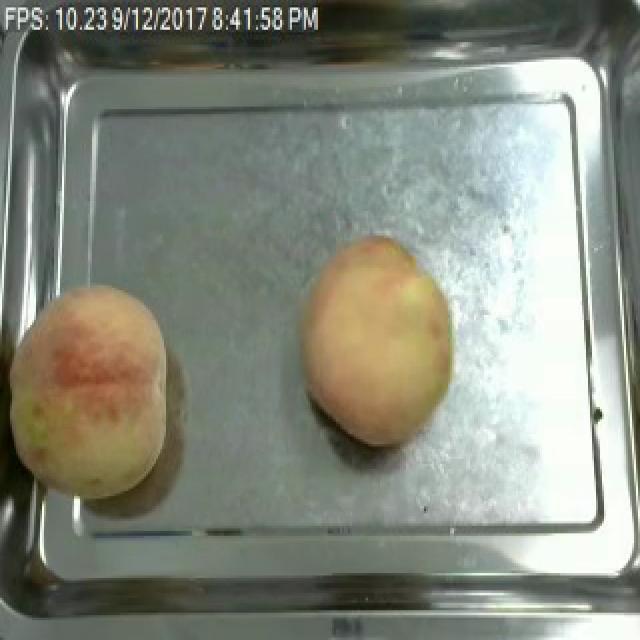Fruit: (0, 273, 180, 508), (288, 228, 464, 454)
